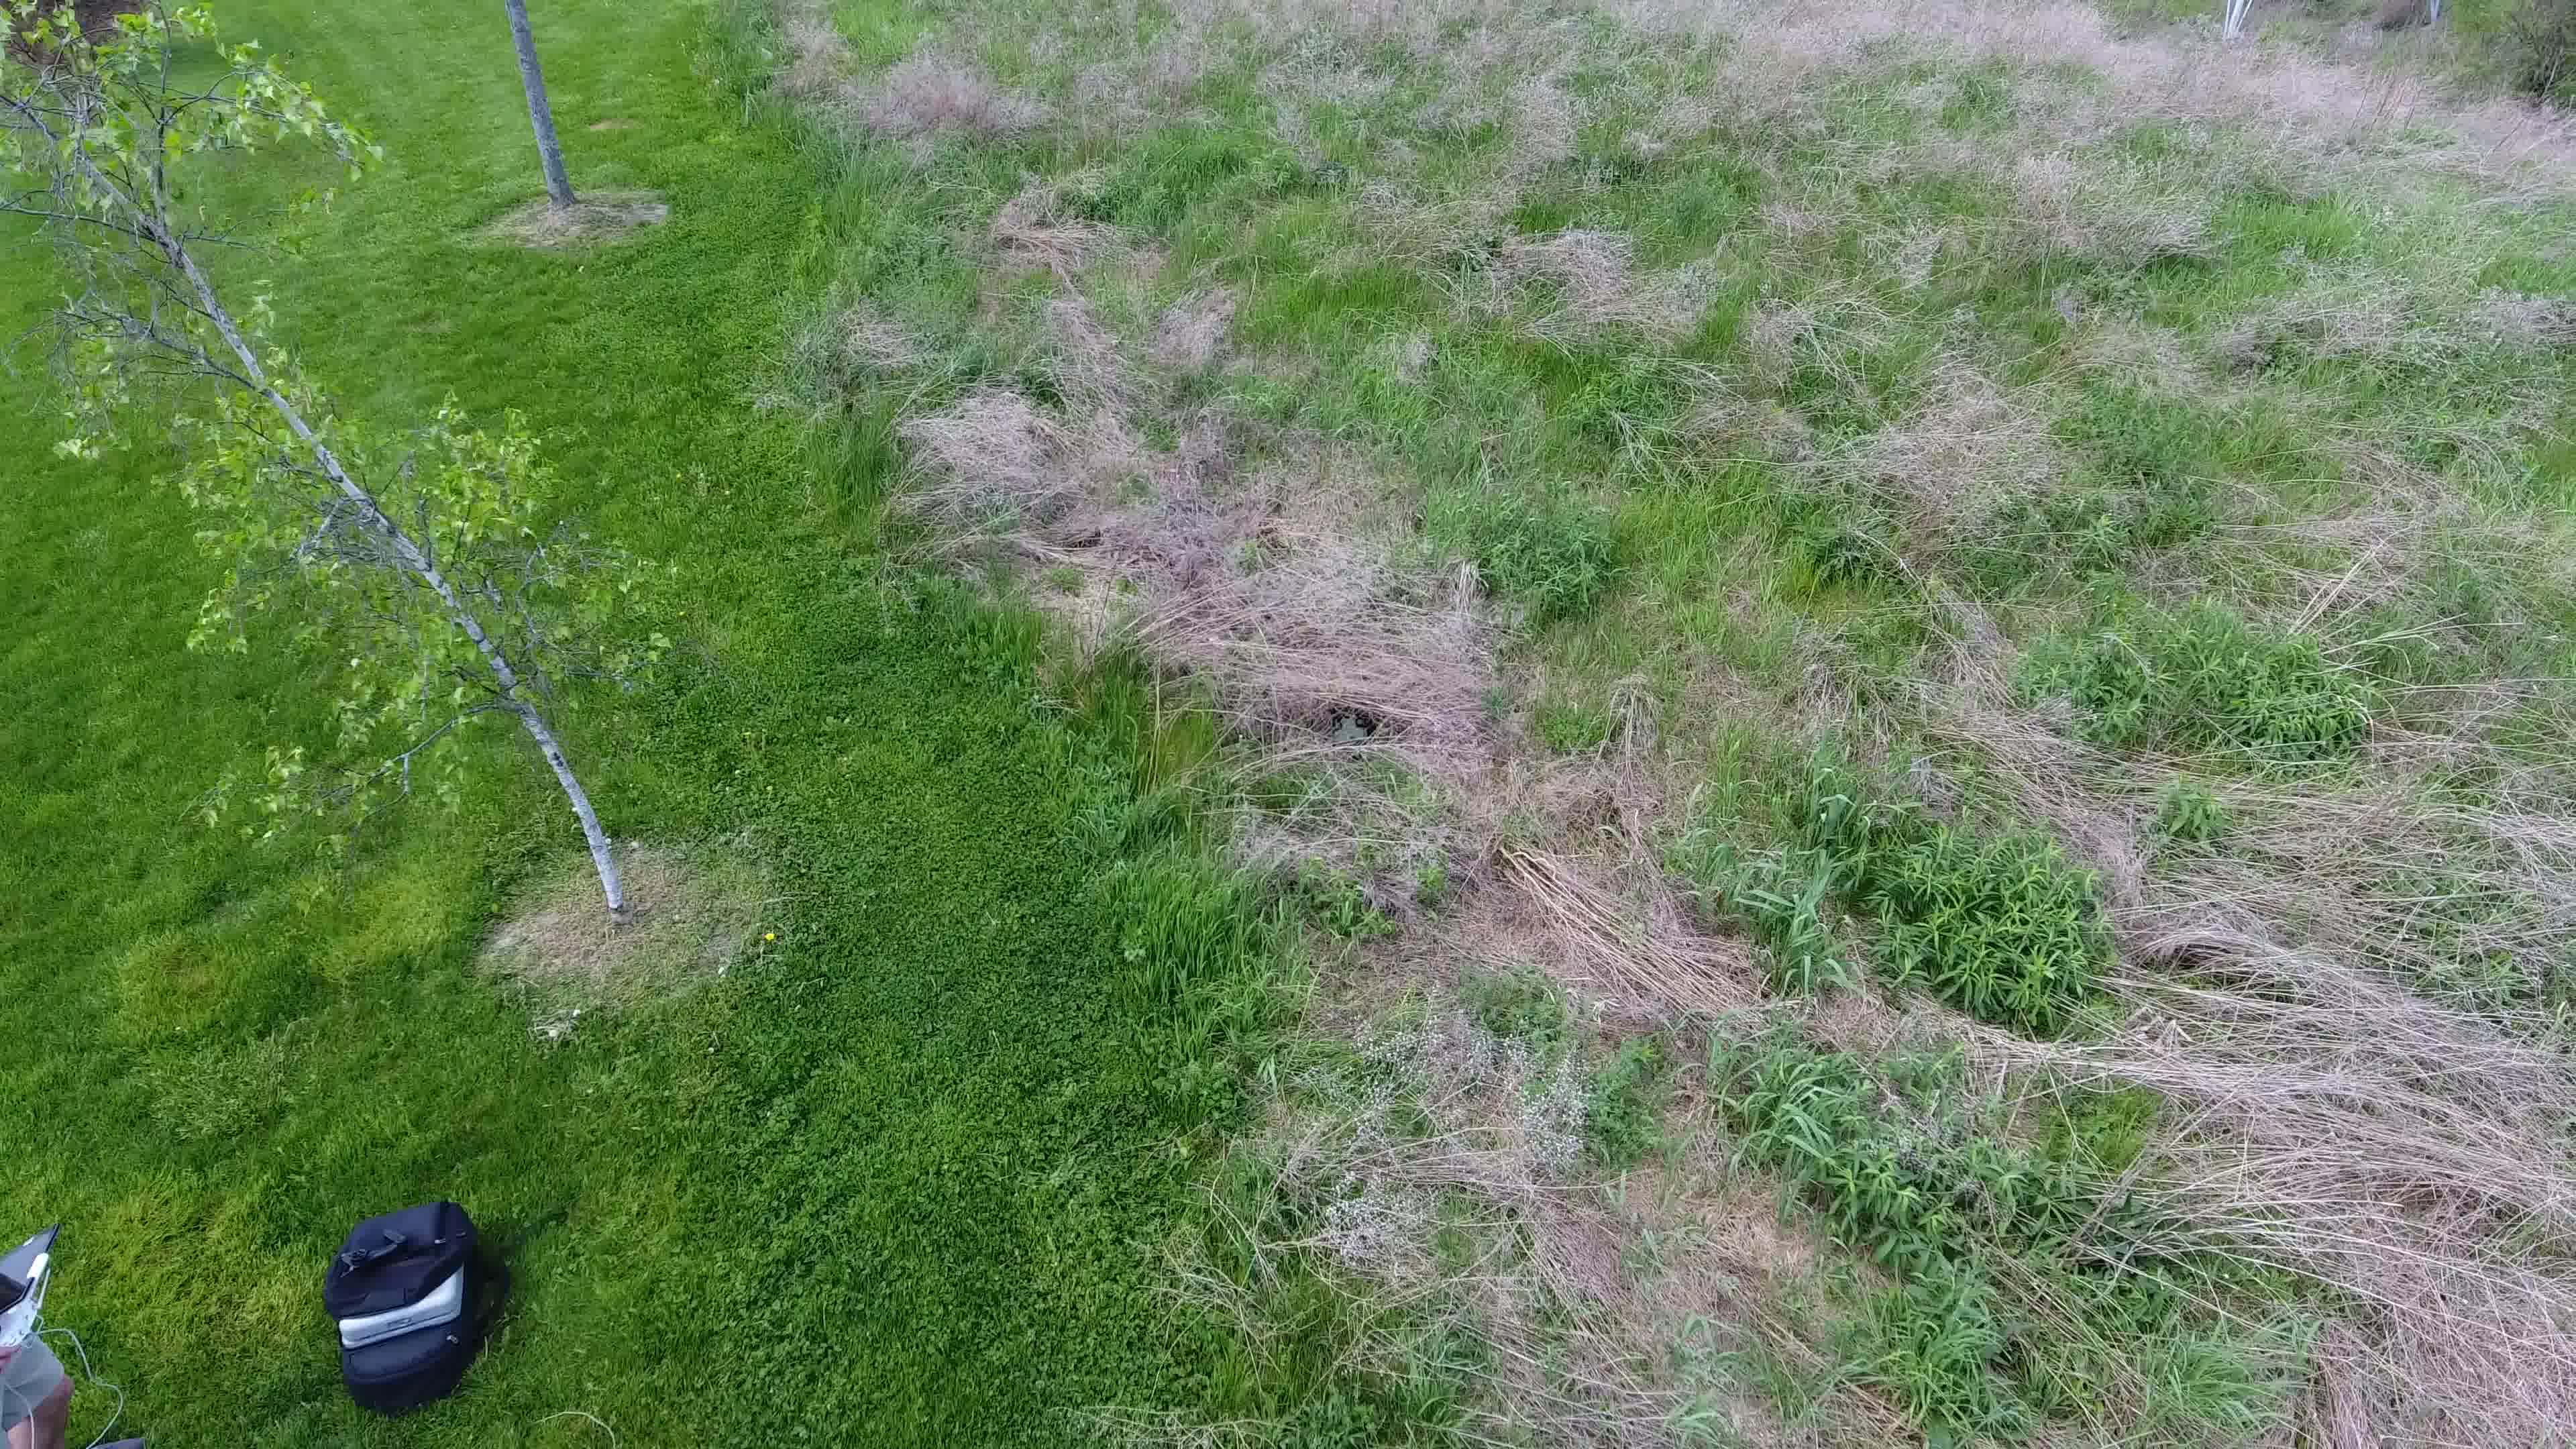transporter9: (1327, 711, 1375, 740)
